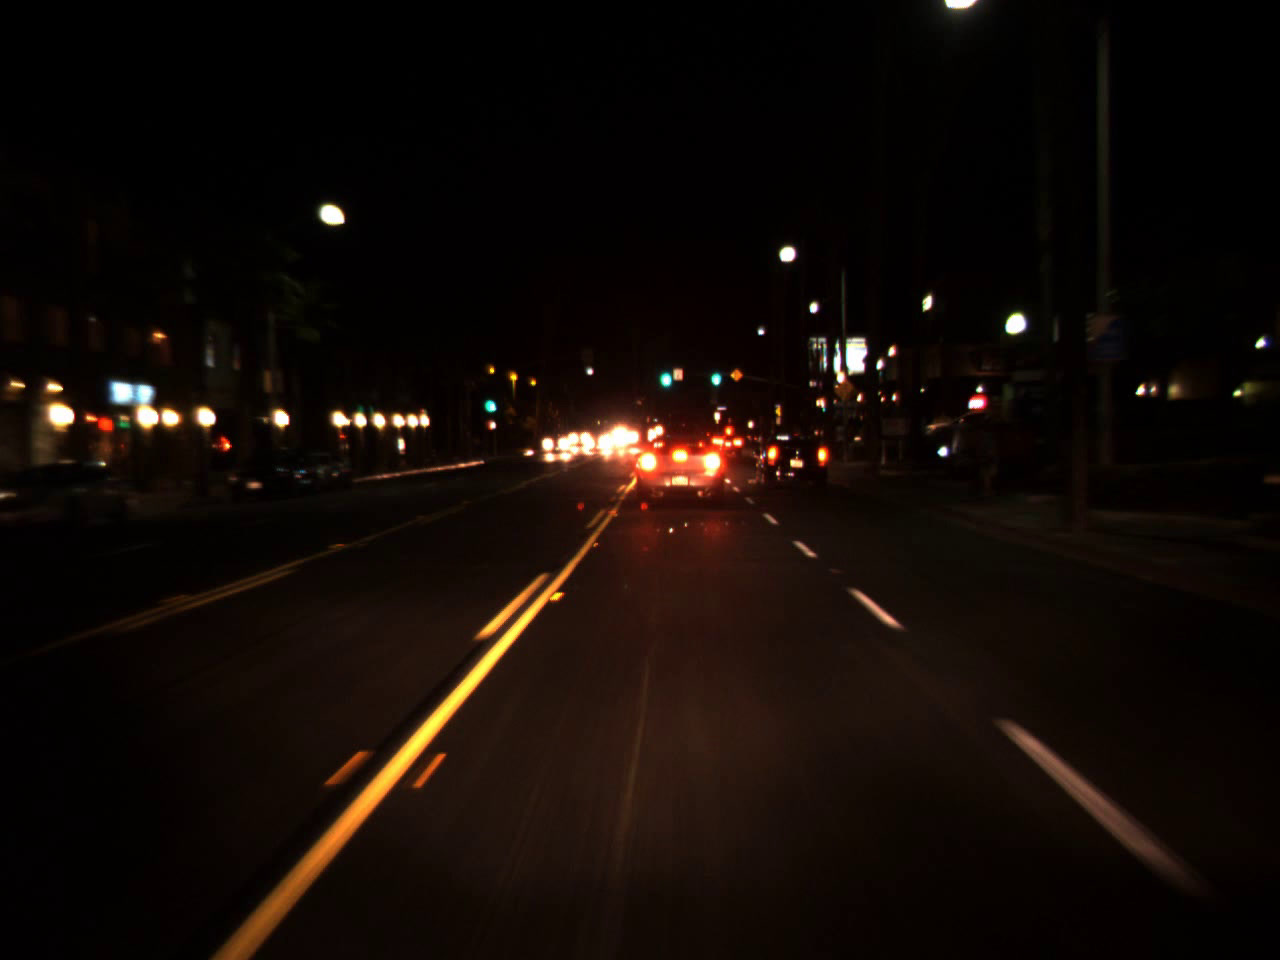go: (657, 356, 673, 392), (481, 384, 497, 417), (708, 360, 722, 387)
